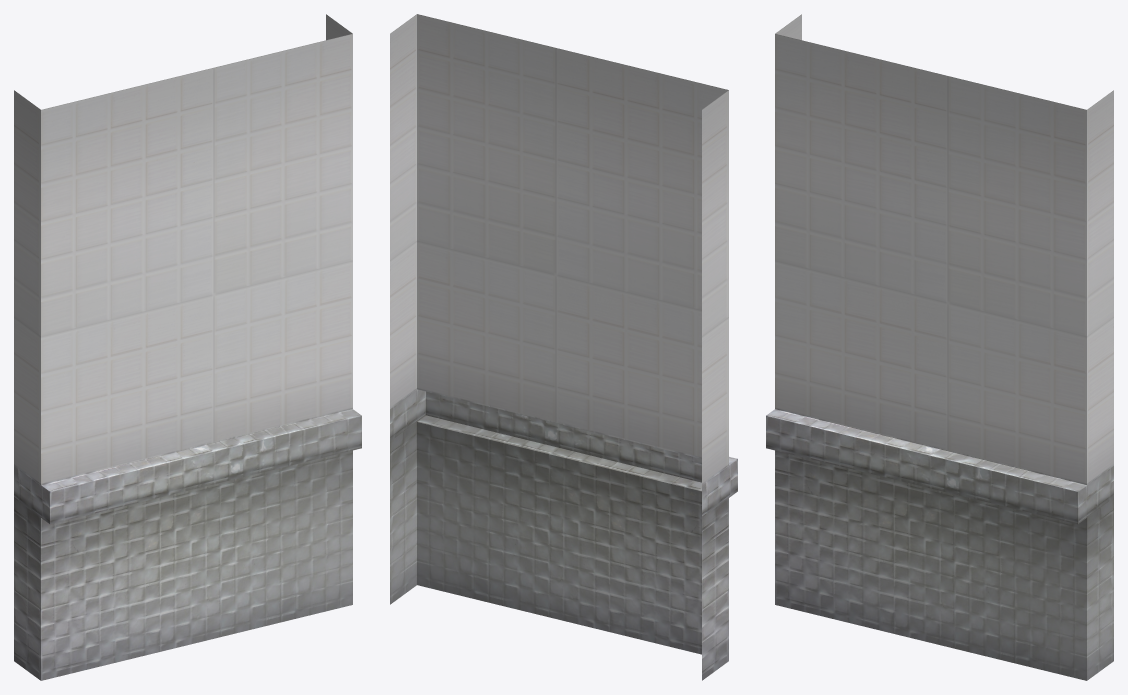
Rendered from Cocina_Pared_Borde_01.fbx.
3 views of the same model, side by side, from view 1: azimuth 30°, elevation 25°; view 2: azimuth 150°, elevation 25°; view 3: azimuth 330°, elevation 25° (orthographic).
Visible parts, largest first — view 1: Cocina_Pared_Borde_01; view 2: Cocina_Pared_Borde_01; view 3: Cocina_Pared_Borde_01.
Boxes of the visible parts, <box> form: Cocina_Pared_Borde_01: <box>14,14,361,680</box>; Cocina_Pared_Borde_01: <box>390,14,737,680</box>; Cocina_Pared_Borde_01: <box>766,14,1113,680</box>.
Bounding box in the file's own units: 20 × 35 × 4.
